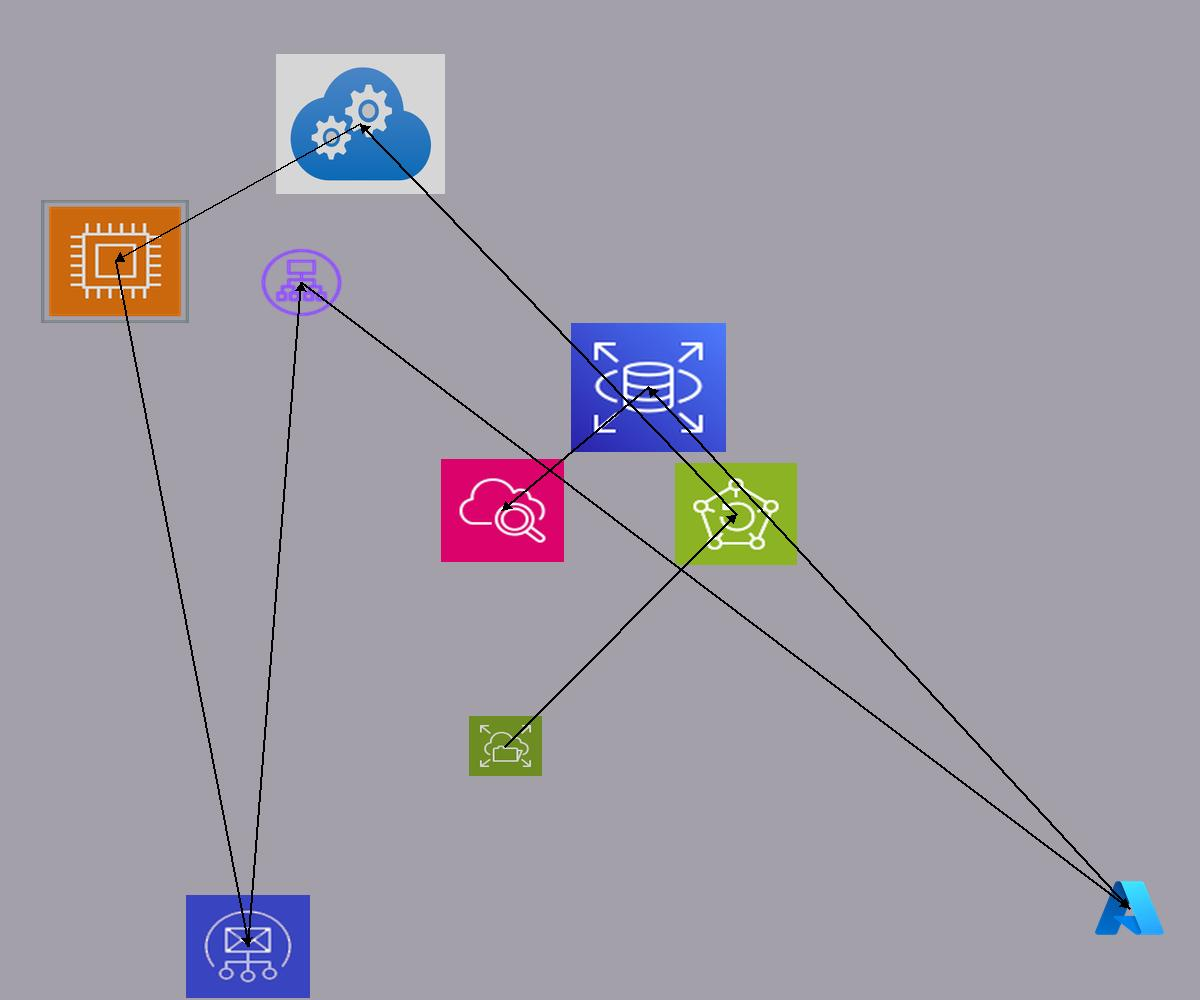AWS-Backup: (675, 463, 797, 565)
AWS-Category_Compute: (41, 200, 189, 323)
AWS-CloudWatch: (441, 459, 564, 562)
AWS-EFS: (469, 716, 542, 776)
AWS-RDS: (571, 323, 726, 452)
AWS-Res_Elastic-Load-Balancing_Application-Load-Balancer: (258, 246, 345, 319)
AWS-Simple-Email-Service: (186, 895, 310, 998)
Azure_cloud_services: (276, 54, 445, 194)
Azure_services: (1092, 877, 1167, 939)
